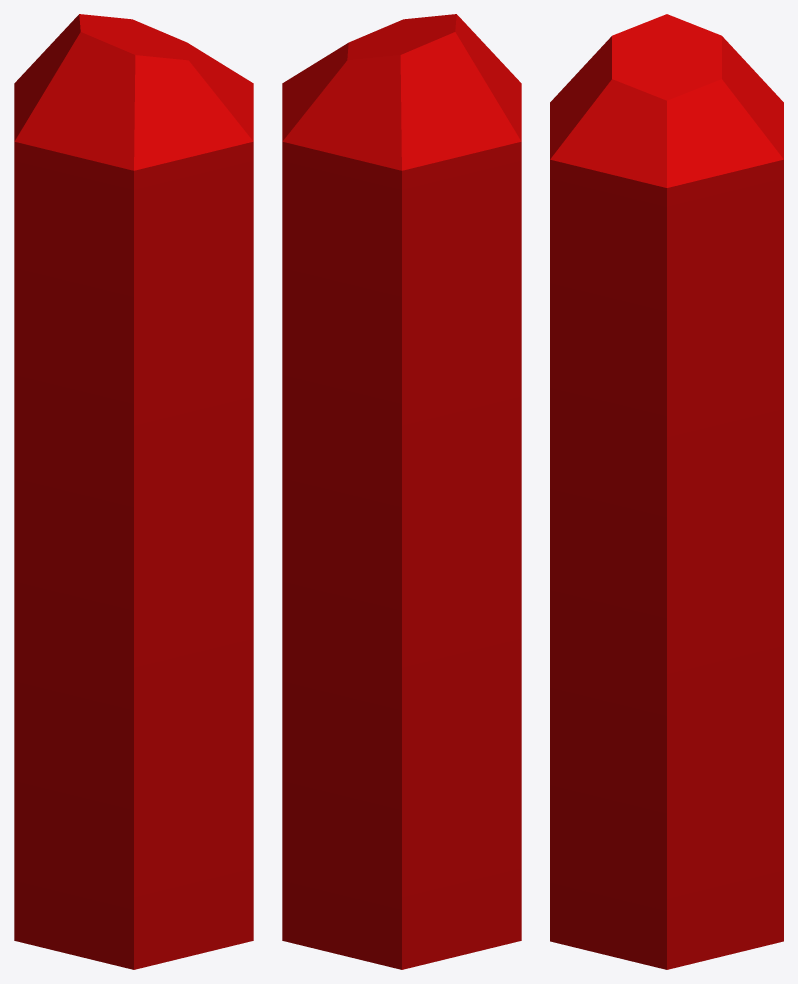
The model's file is geology-crystals-coloredcrystal_v6.fbx.
3 views of the same model, side by side, from view 1: azimuth 30°, elevation 25°; view 2: azimuth 150°, elevation 25°; view 3: azimuth 270°, elevation 25° (orthographic). The views are drawn at different scales.
Visible parts, largest first — view 1: ColoredCrystal_v6; view 2: ColoredCrystal_v6; view 3: ColoredCrystal_v6.
Part boxes in pixels (x1,y1,x2,y2): ColoredCrystal_v6: [14, 14, 253, 969]; ColoredCrystal_v6: [282, 14, 521, 969]; ColoredCrystal_v6: [550, 14, 783, 969].
Bounding box in the file's own units: 1.5 × 5.34 × 1.3.
